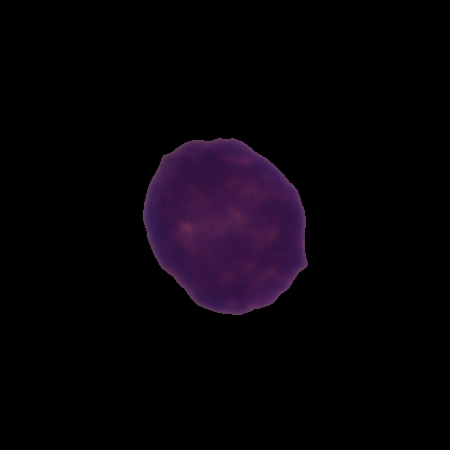HEM: (139, 134, 311, 317)
